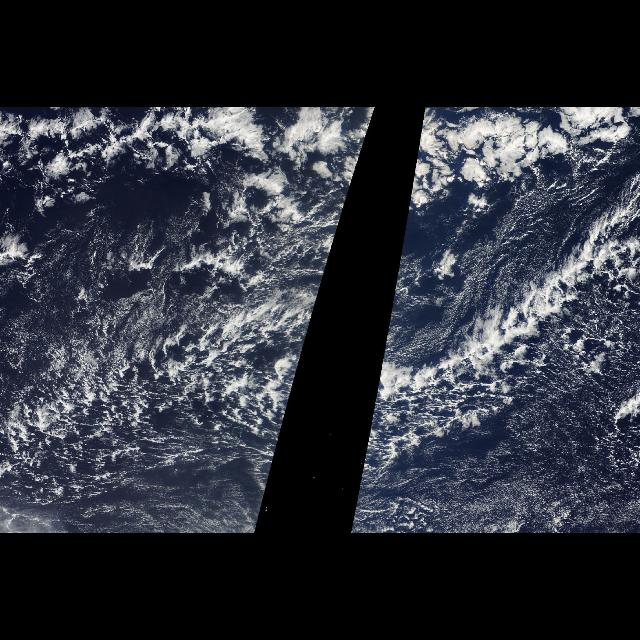Fish: (374, 197, 636, 399)
Gravel: (0, 290, 284, 504)
Sugar: (368, 386, 638, 532)
